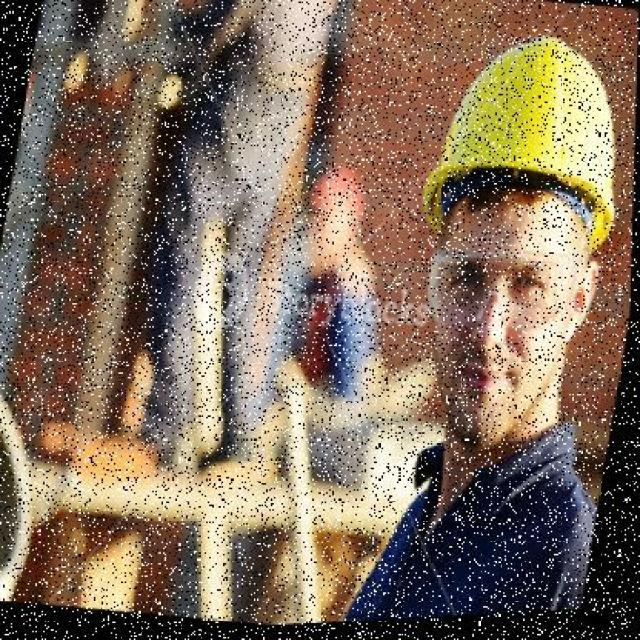helmet: (412, 25, 638, 274)
